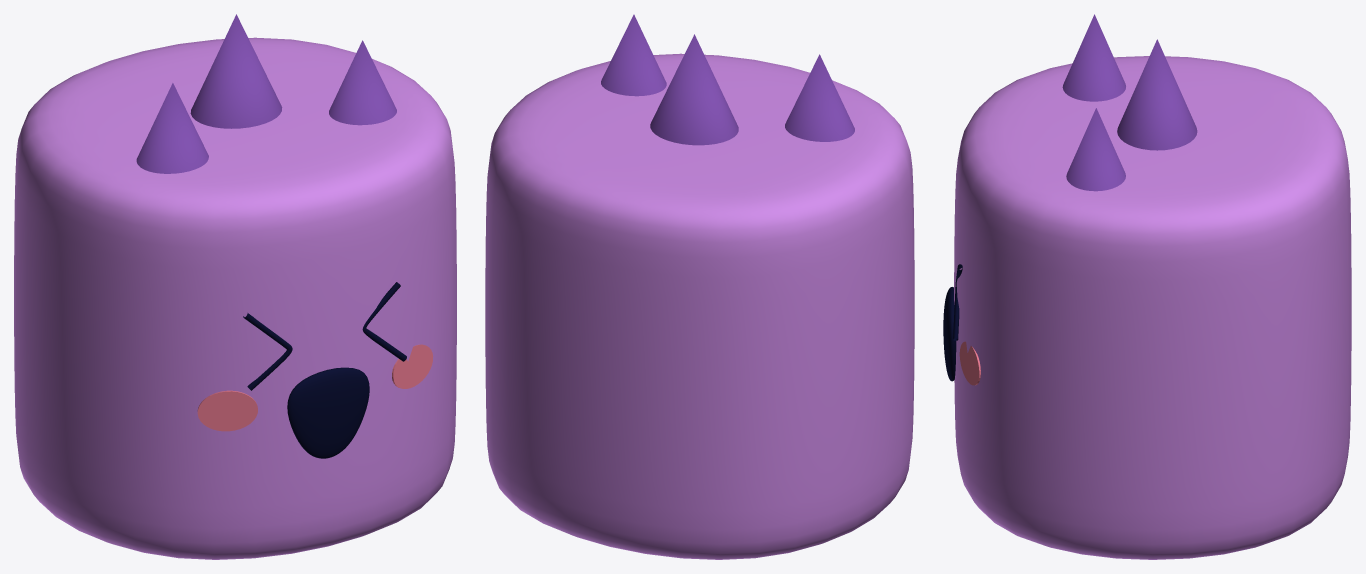
3 views of the same model, side by side, from view 1: azimuth 30°, elevation 25°; view 2: azimuth 150°, elevation 25°; view 3: azimuth 270°, elevation 25° (orthographic). The views are drawn at different scales.
Visible parts, largest first — view 1: Cube.001, Cone.001, Cube.002, Cone.003, Cone.002, Círculo.005, Círculo.006, Curva NURBS, Curva NURBS.001; view 2: Cube.001, Cone.001, Cone.003, Cone.002; view 3: Cube.001, Cone.001, Cone.003, Cone.002, Cube.002, Círculo.006.
Part boxes in pixels (left/top/right/bottom): Cube.001: left=14, top=37, right=456, bottom=559; Cone.001: left=190, top=14, right=282, bottom=128; Cube.002: left=287, top=367, right=369, bottom=458; Cone.003: left=136, top=83, right=208, bottom=173; Cone.002: left=329, top=40, right=396, bottom=125; Círculo.005: left=197, top=390, right=257, bottom=431; Círculo.006: left=392, top=344, right=433, bottom=388; Curva NURBS: left=243, top=313, right=292, bottom=390; Curva NURBS.001: left=362, top=282, right=406, bottom=361; Cube.001: left=485, top=53, right=914, bottom=559; Cone.001: left=650, top=34, right=738, bottom=145; Cone.003: left=785, top=54, right=854, bottom=141; Cone.002: left=601, top=14, right=666, bottom=96; Cube.001: left=954, top=56, right=1351, bottom=559; Cone.001: left=1117, top=39, right=1197, bottom=150; Cone.003: left=1062, top=14, right=1125, bottom=101; Cone.002: left=1066, top=108, right=1125, bottom=191; Cube.002: left=943, top=287, right=956, bottom=381; Círculo.006: left=959, top=341, right=980, bottom=385.
Bounding box in the file's own units: 66.57 × 77.89 × 64.27.
